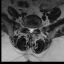CCS_normal: (30, 26, 32, 34)
LFS_normal: (34, 26, 36, 32)
LLS_normal: (32, 26, 34, 33)
RFS_stenosis: (26, 25, 28, 30)
RLS_normal: (28, 26, 30, 33)
